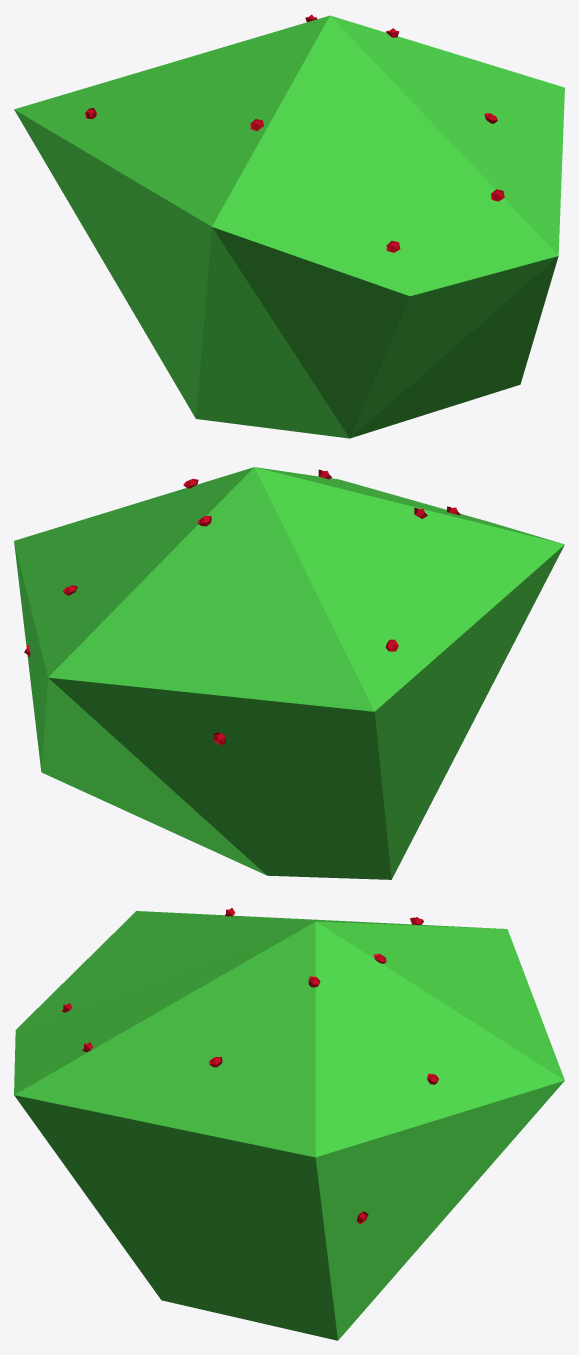
File: bushFlowers.fbx
The picture shows the model from 3 angles, top to bottom: view 1: azimuth 30°, elevation 25°; view 2: azimuth 150°, elevation 25°; view 3: azimuth 270°, elevation 25°; orthographic projection. The views are drawn at different scales.
Parts seen in each view (by area): view 1: Bush_body; view 2: Bush_body; view 3: Bush_body.
Boxes of the visible parts, x1,y1,x2,y2 form: Bush_body: (14, 15, 564, 438); Bush_body: (14, 467, 564, 879); Bush_body: (14, 911, 564, 1340).
Size of the model in its own units: 206 by 162 by 226.
